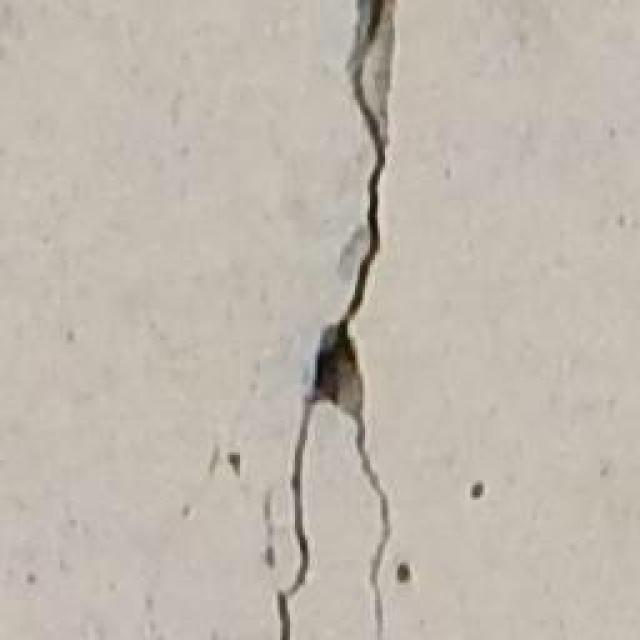concrete-crack: (275, 0, 400, 640)
